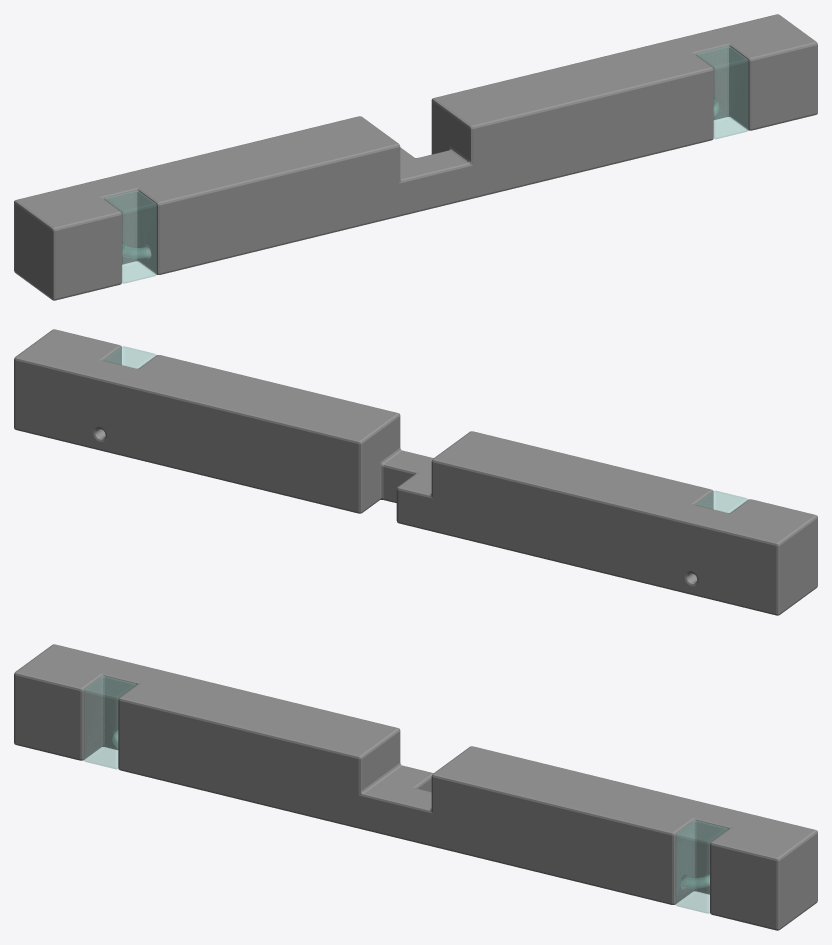
3 views of the same model, one above another, from view 1: azimuth 30°, elevation 25°; view 2: azimuth 150°, elevation 25°; view 3: azimuth 330°, elevation 25° (orthographic).
Visible parts, largest first — view 1: 3-1_M5_2; view 2: 3-1_M5_2; view 3: 3-1_M5_2.
Part boxes in pixels (x1,y1,x2,y2): 3-1_M5_2: (14,14,817,300); 3-1_M5_2: (14,329,817,615); 3-1_M5_2: (14,644,817,930).
Size of the model in its own units: 130 by 11.81 by 11.81.
